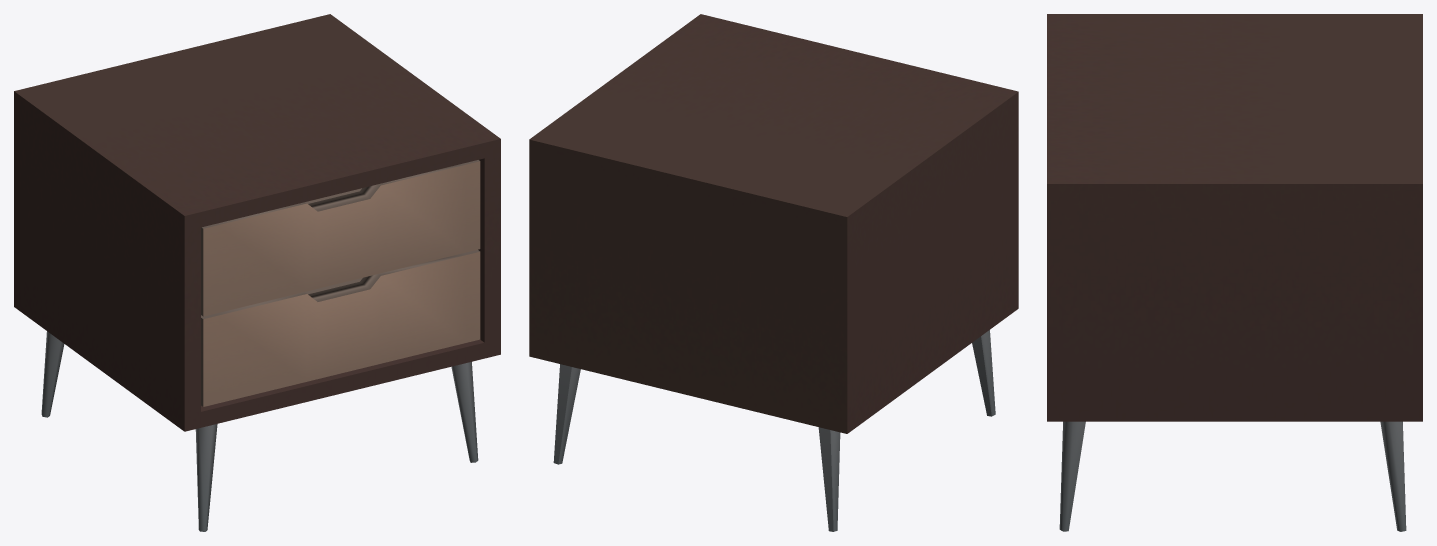
The model's file is Nightstand.fbx.
3 renders of one model, left to right at view 1: azimuth 30°, elevation 25°; view 2: azimuth 150°, elevation 25°; view 3: azimuth 270°, elevation 25°, orthographic. The views are drawn at different scales.
Visible parts, largest first — view 1: nightstand1:pCube1, nightstand1:pCube4, nightstand1:pCube5, nightstand1:pCylinder1, nightstand1:pCylinder4, nightstand1:pCylinder2; view 2: nightstand1:pCube1, nightstand1:pCylinder2, nightstand1:pCylinder3, nightstand1:pCylinder1; view 3: nightstand1:pCube1, nightstand1:pCylinder4, nightstand1:pCylinder3.
Boxes of the visible parts, x1,y1,x2,y2 form: nightstand1:pCube1: [14, 14, 500, 431]; nightstand1:pCube4: [201, 249, 480, 406]; nightstand1:pCube5: [201, 160, 480, 316]; nightstand1:pCylinder1: [195, 424, 217, 531]; nightstand1:pCylinder4: [451, 362, 478, 462]; nightstand1:pCylinder2: [41, 331, 64, 417]; nightstand1:pCube1: [529, 14, 1018, 433]; nightstand1:pCylinder2: [818, 427, 840, 531]; nightstand1:pCylinder3: [553, 364, 580, 464]; nightstand1:pCylinder1: [972, 330, 995, 416]; nightstand1:pCube1: [1047, 14, 1422, 421]; nightstand1:pCylinder4: [1059, 421, 1085, 531]; nightstand1:pCylinder3: [1380, 421, 1406, 531].
Bounding box in the file's own units: 40.72 × 39.87 × 38.03.
